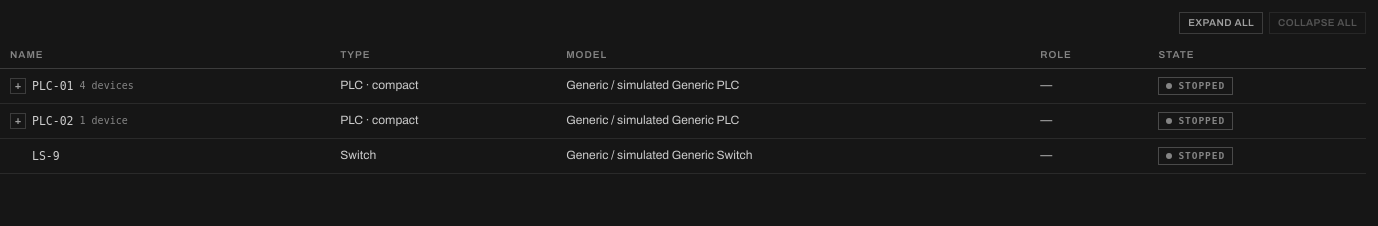
Scenario: factory device hierarchy › links every device to its screen and shows type, model and state of every device
Click the button "+" next to "PLC-02". click: point(18, 121)
box: [10, 113, 26, 129]
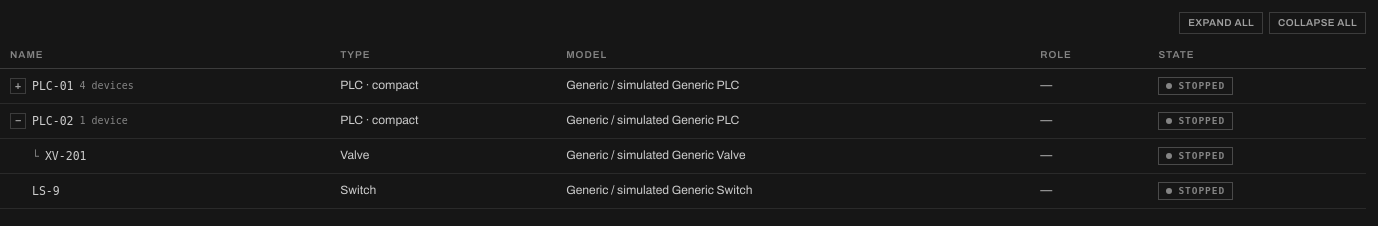
Expected: the text "Stopped" in the row of "XV-201" is shown, [1178, 150, 1225, 161]
Now the text "Valve" is shown, box [330, 138, 556, 174]
Now the text "Generic / simulated Generic Valve" is shown, box [556, 138, 1030, 174]
